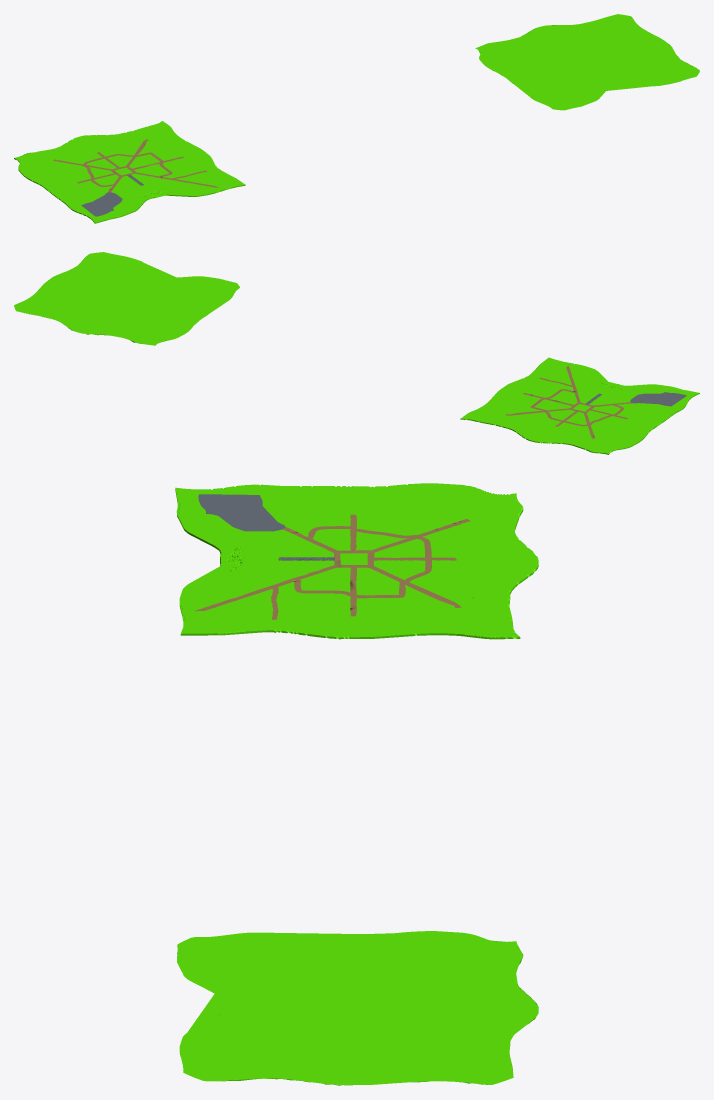
File: persistent_base.glb
The picture shows the model from 3 angles, top to bottom: view 1: azimuth 30°, elevation 25°; view 2: azimuth 150°, elevation 25°; view 3: azimuth 270°, elevation 25°; orthographic projection. The views are drawn at different scales.
Parts seen in each view (by area): view 1: Cube.001, Cube.003, path, Grid; view 2: Cube.001, Cube.003, path, Grid; view 3: Cube.001, Cube.003, path, Grid.
Boxes of the visible parts, box(x1,y1,x2,y2) form: Cube.001: box(475, 14, 699, 110); Cube.003: box(14, 121, 245, 223); path: box(53, 139, 217, 192); Grid: box(81, 192, 122, 216); Cube.001: box(14, 252, 239, 345); Cube.003: box(460, 357, 699, 454); path: box(506, 365, 631, 438); Grid: box(630, 392, 686, 406); Cube.001: box(177, 931, 538, 1085); Cube.003: box(175, 483, 538, 639); path: box(194, 514, 470, 619); Grid: box(198, 494, 285, 531).
Bounding box in the file's own units: 1051 × 5.8 × 271.
